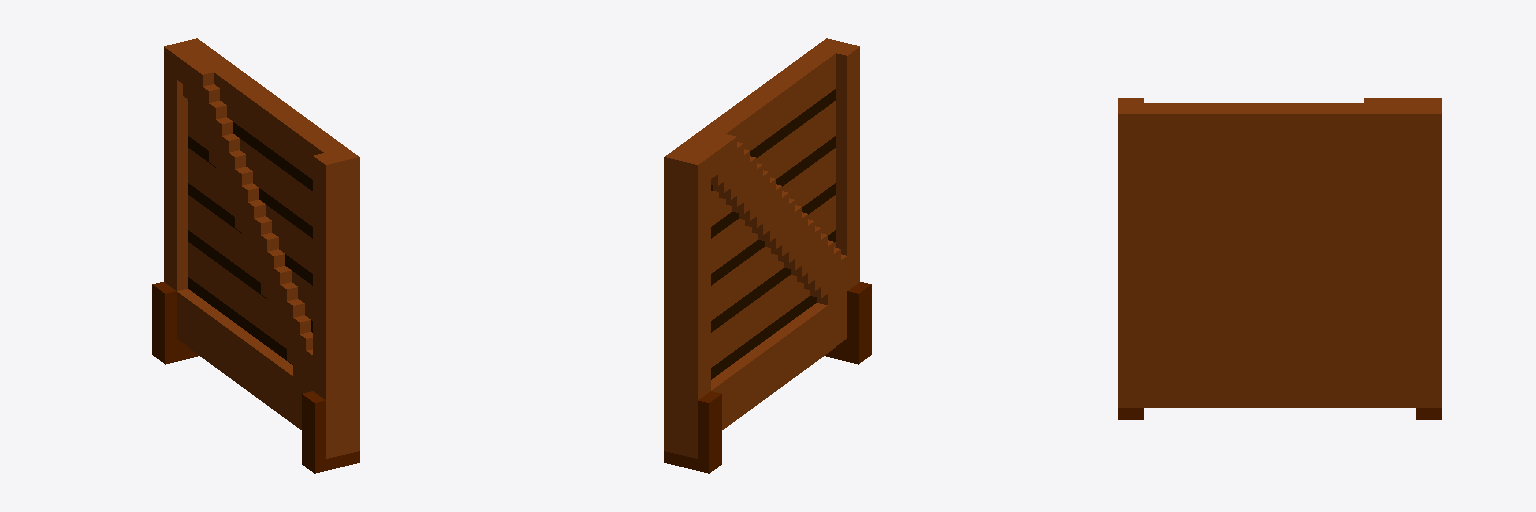
The picture shows the model from 3 angles: view 1: azimuth 30°, elevation 25°; view 2: azimuth 150°, elevation 25°; view 3: azimuth 270°, elevation 25°; orthographic projection.
Parts seen in each view (by area): view 1: object 1; view 2: object 1; view 3: object 1.
Part boxes in pixels (bbox=[...]): object 1: bbox=[152, 38, 359, 473]; object 1: bbox=[664, 38, 871, 473]; object 1: bbox=[1118, 98, 1441, 419].
Bounding box in the file's own units: 0.4 × 2.6 × 2.5.
1 materials, 1 textured.